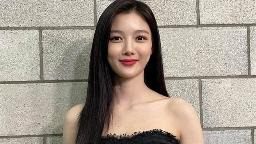face: (108, 13, 150, 77)
